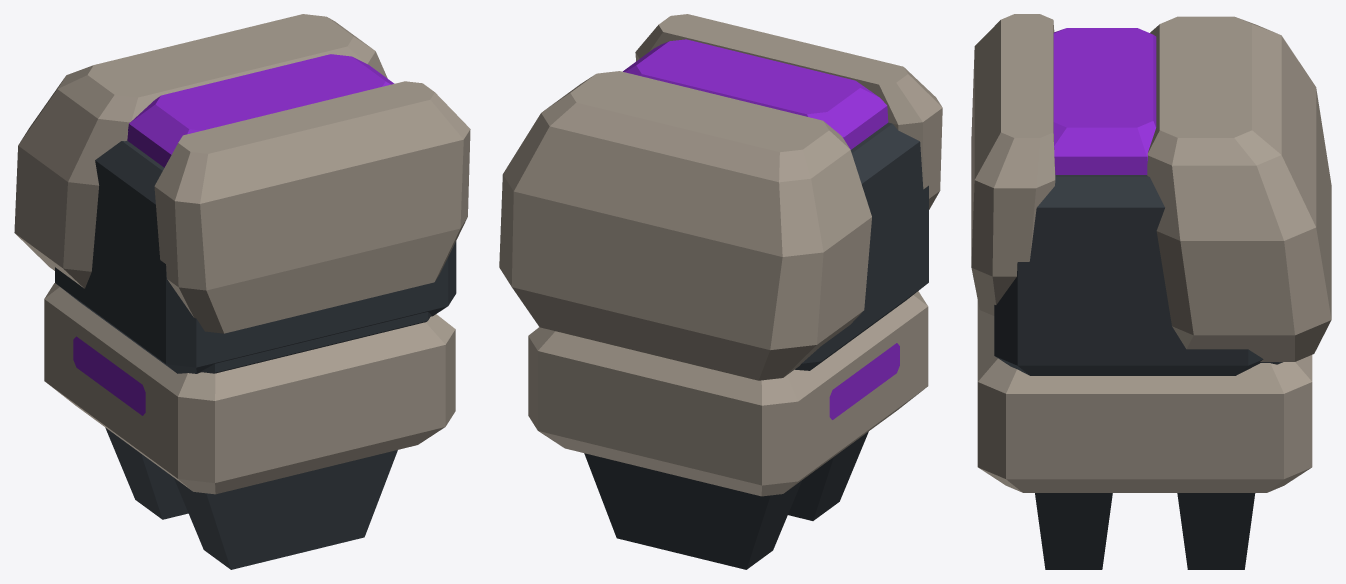
Rendered from shield-coupling.obj.
The picture shows the model from 3 angles, left to right: view 1: azimuth 30°, elevation 25°; view 2: azimuth 150°, elevation 25°; view 3: azimuth 270°, elevation 25°; orthographic projection. The views are drawn at different scales.
Parts seen in each view (by area): view 1: shield-coupling; view 2: shield-coupling; view 3: shield-coupling.
Part boxes in pixels (<box>): shield-coupling: <box>14,14,470,569</box>; shield-coupling: <box>499,14,942,569</box>; shield-coupling: <box>971,14,1331,569</box>.
Bounding box in the file's own units: 0.618 × 0.7922 × 0.562.
